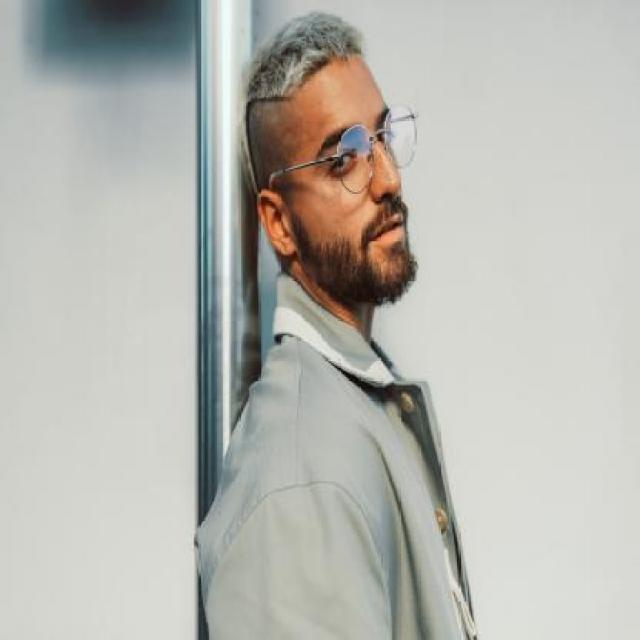mask: (310, 100, 428, 202)
